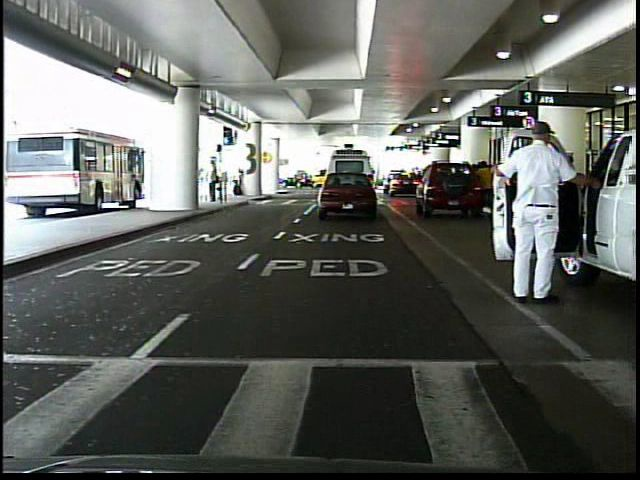person: (492, 115, 581, 307), (550, 150, 582, 229), (472, 157, 497, 214), (205, 155, 221, 205), (231, 163, 247, 199)
